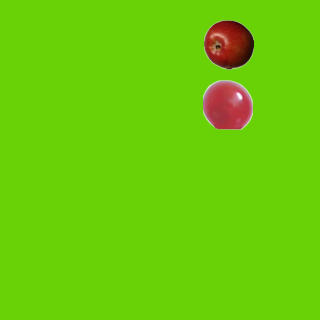Apple Braeburn: (203, 19, 253, 69)
Redcurrant: (202, 79, 252, 129)
